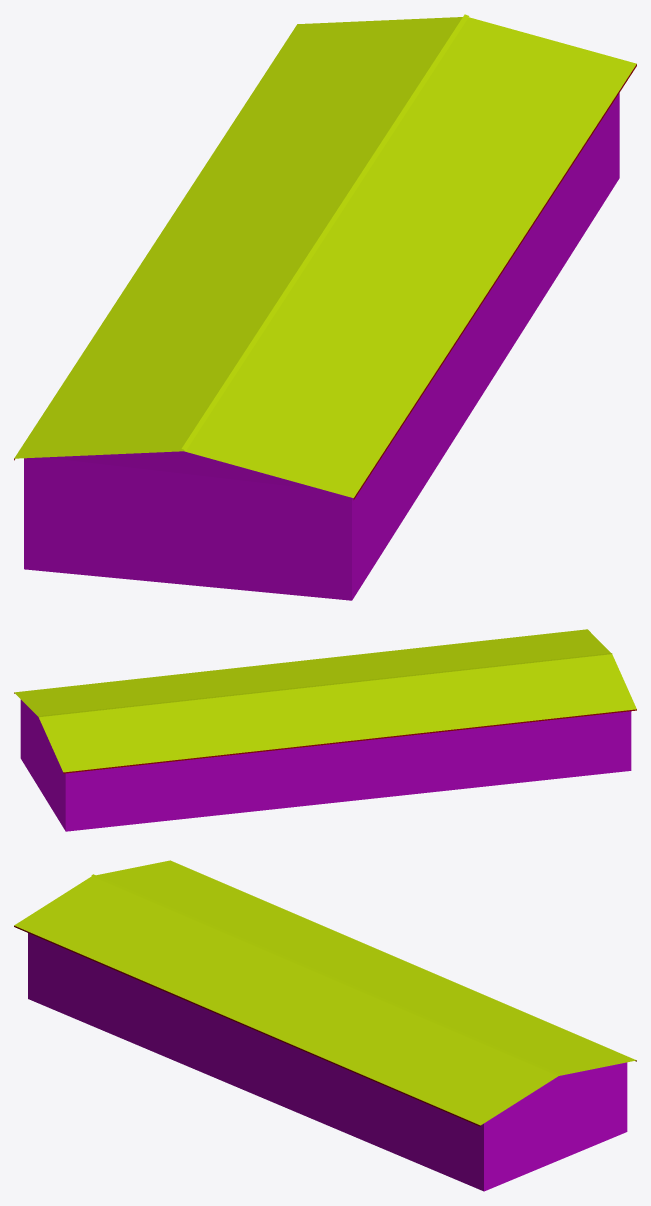
3 views of the same model, one above another, from view 1: azimuth 30°, elevation 25°; view 2: azimuth 150°, elevation 25°; view 3: azimuth 270°, elevation 25° (orthographic). The views are drawn at different scales.
Parts seen in each view (by area): view 1: sc_1; view 2: sc_1; view 3: sc_1.
Part boxes in pixels (x1=…): sc_1: x1=14, y1=14, x2=636, y2=600; sc_1: x1=14, y1=629, x2=636, y2=831; sc_1: x1=14, y1=860, x2=636, y2=1191.
Bounding box in the file's own units: 49.25 × 7.69 × 48.9.
